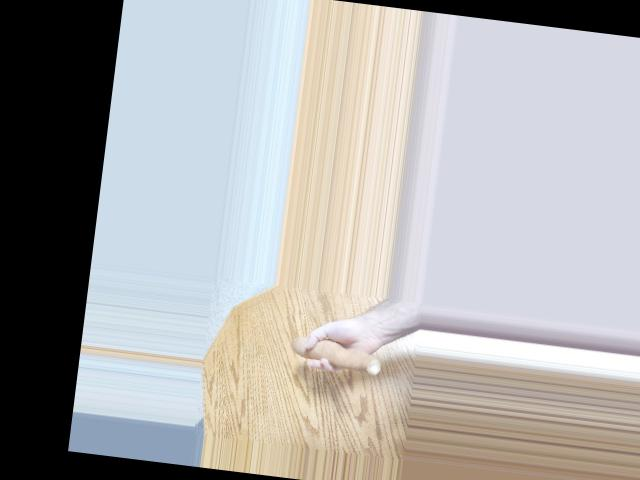sweet_potato: (282, 330, 386, 373)
